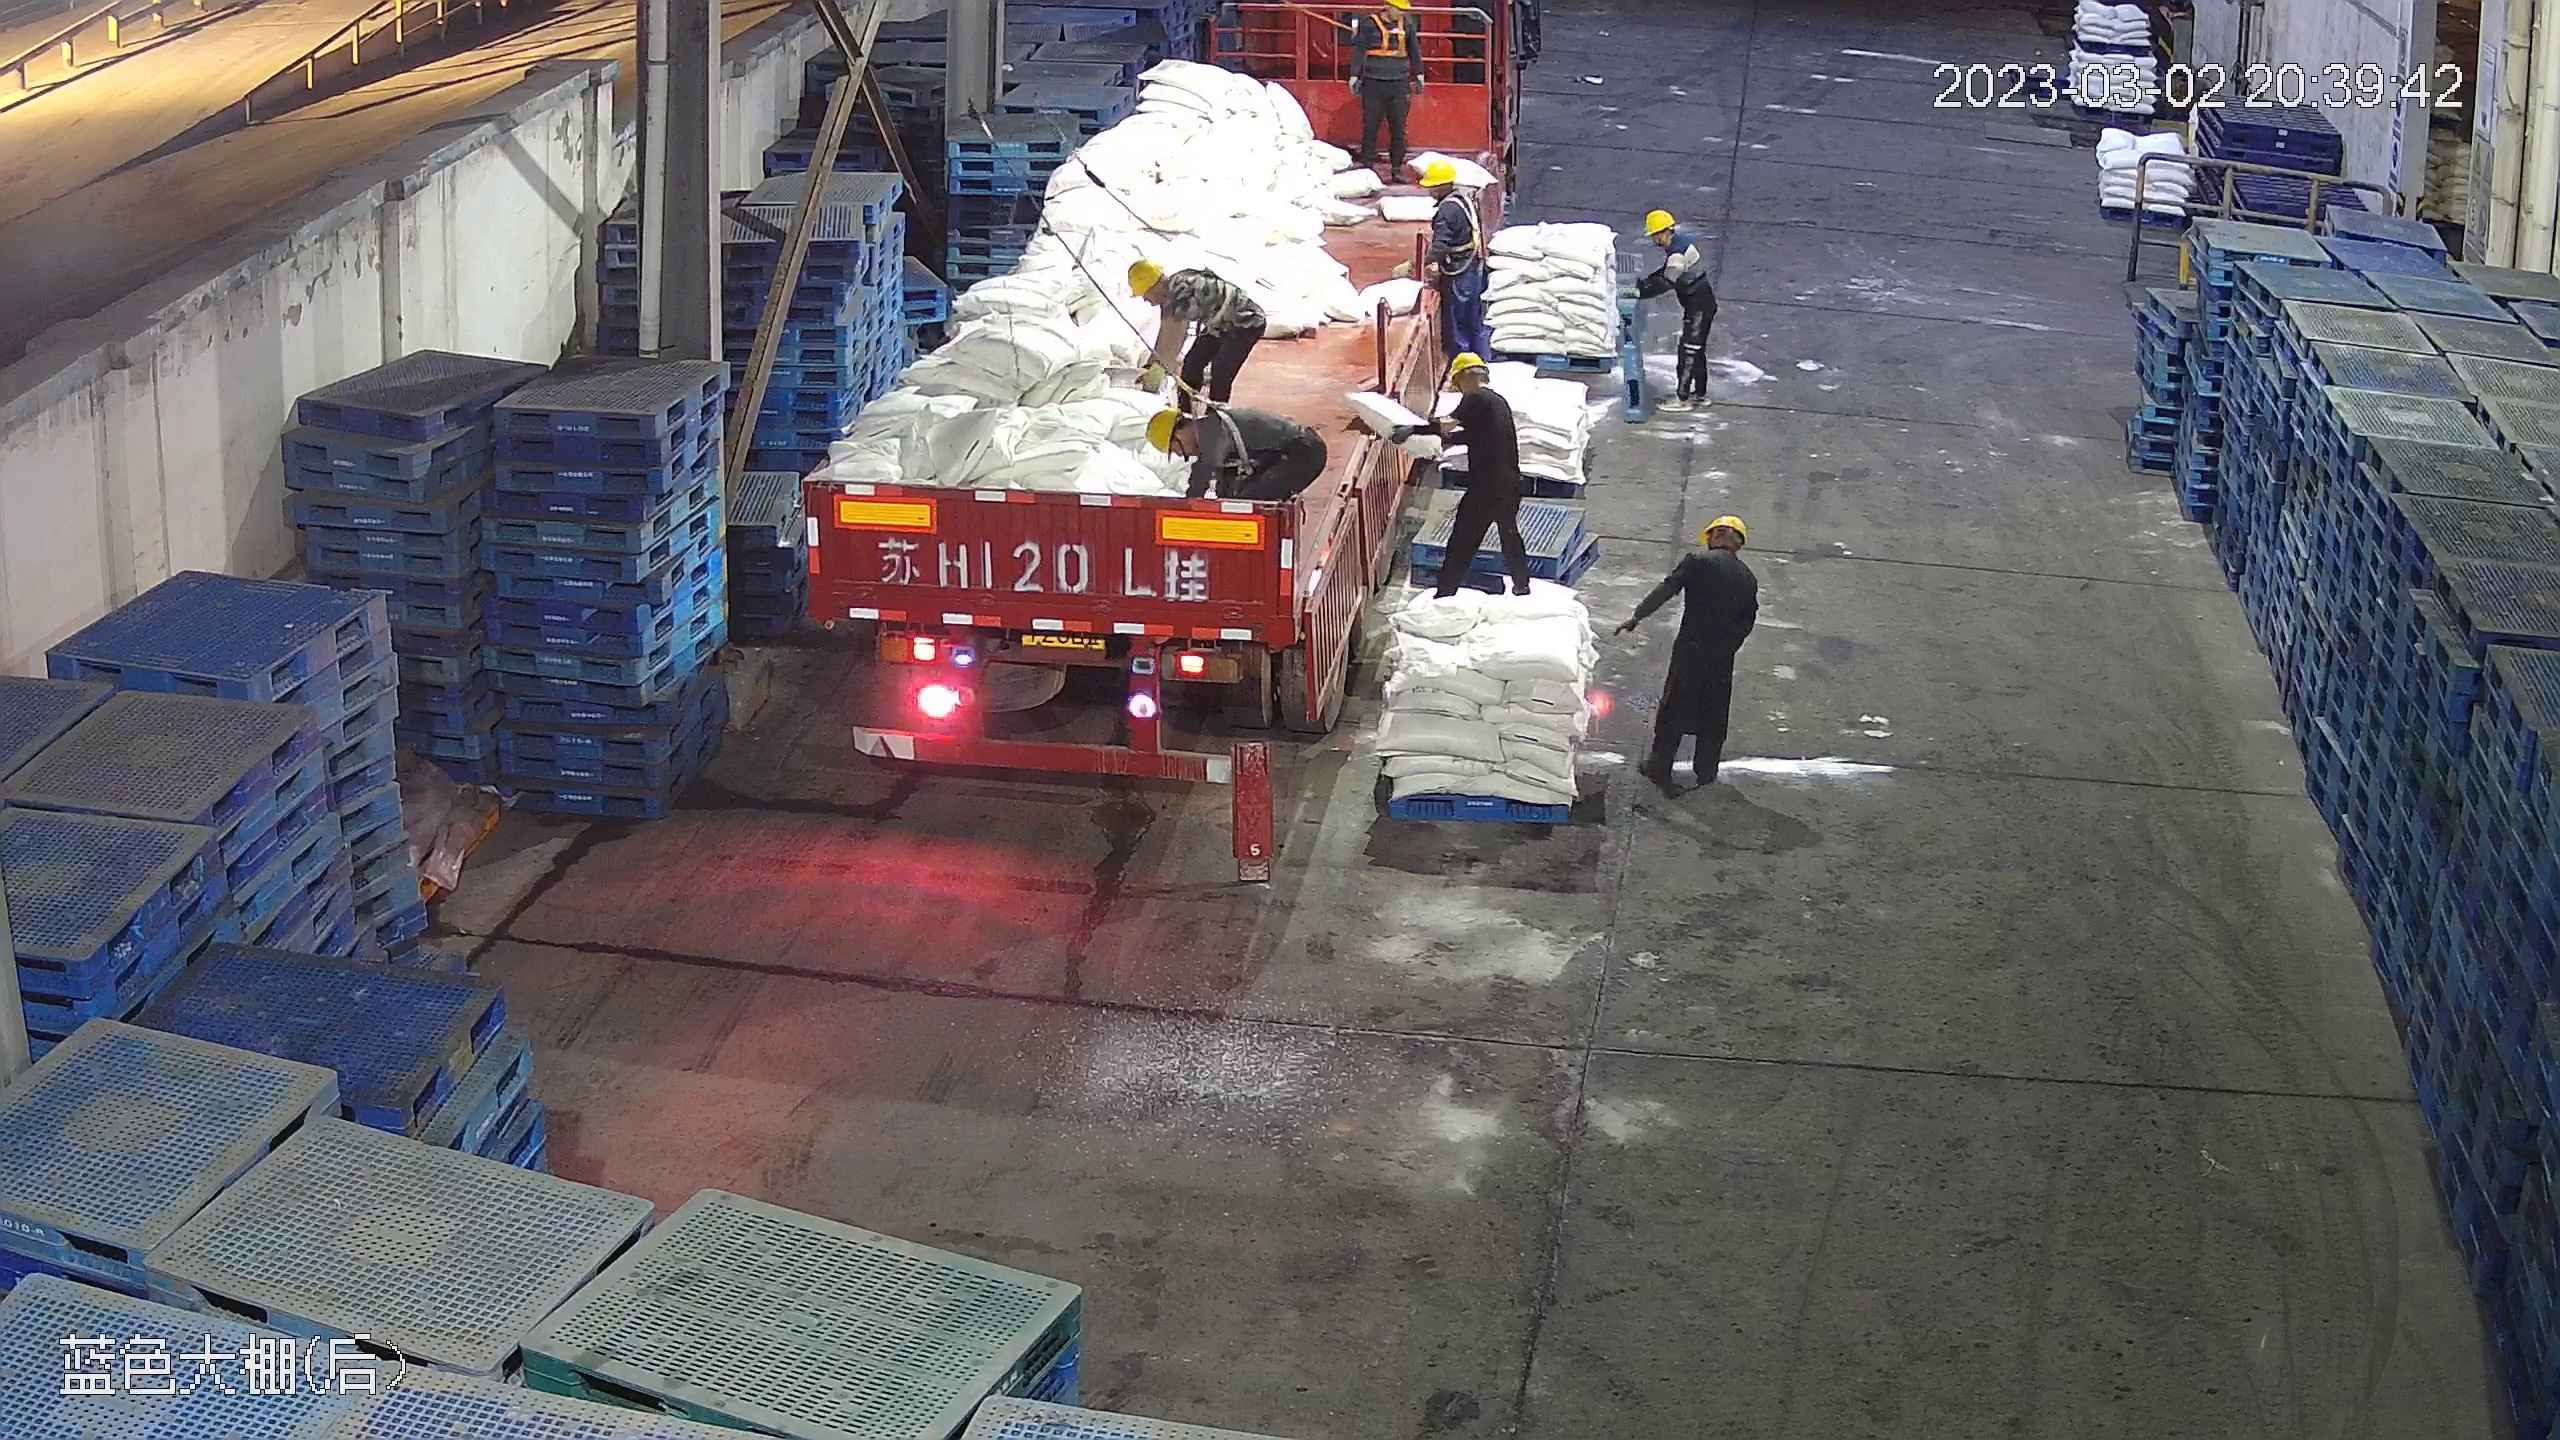belt: (1356, 1, 1417, 117), (1175, 397, 1266, 456), (1172, 262, 1237, 326), (1437, 197, 1491, 260), (1366, 10, 1414, 57)
head: (1148, 400, 1258, 469), (1674, 513, 1756, 600), (1125, 256, 1211, 328), (1441, 351, 1514, 429), (1417, 158, 1482, 232), (1642, 208, 1702, 271), (1362, 1, 1420, 46)
helmet: (1677, 513, 1757, 598), (1142, 404, 1183, 454), (1122, 256, 1162, 302), (1698, 513, 1748, 549), (1446, 350, 1490, 385), (1417, 157, 1458, 184), (1645, 208, 1676, 232), (1390, 1, 1412, 15)
people: (1635, 510, 1760, 791), (1423, 345, 1537, 605), (1123, 253, 1268, 418), (1149, 398, 1320, 526), (1413, 155, 1485, 407), (1632, 206, 1716, 412), (1342, 1, 1424, 181)
truck: (790, 16, 1473, 790)
